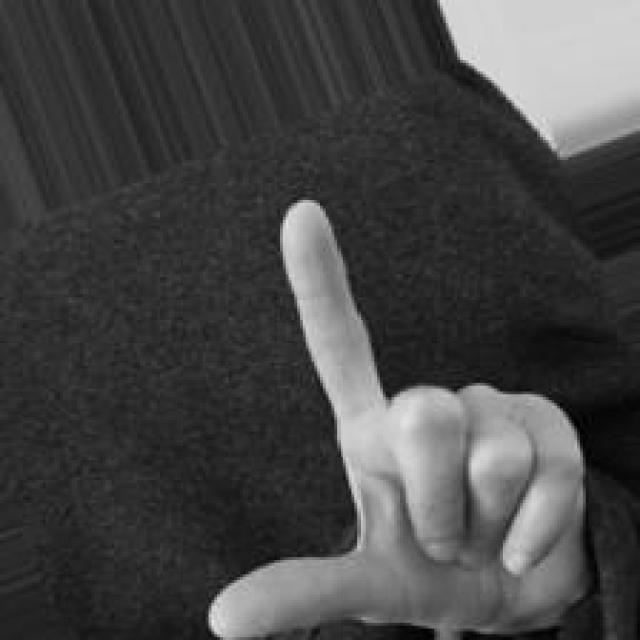L: (197, 188, 600, 640)
